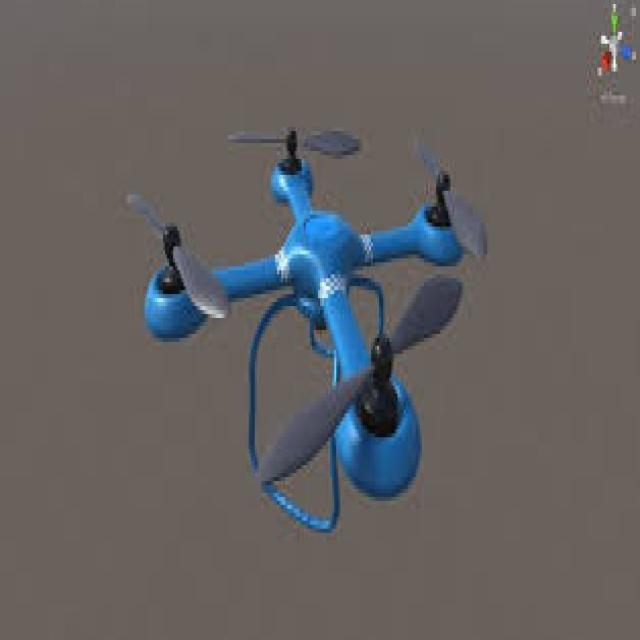drone: (117, 115, 499, 572)
